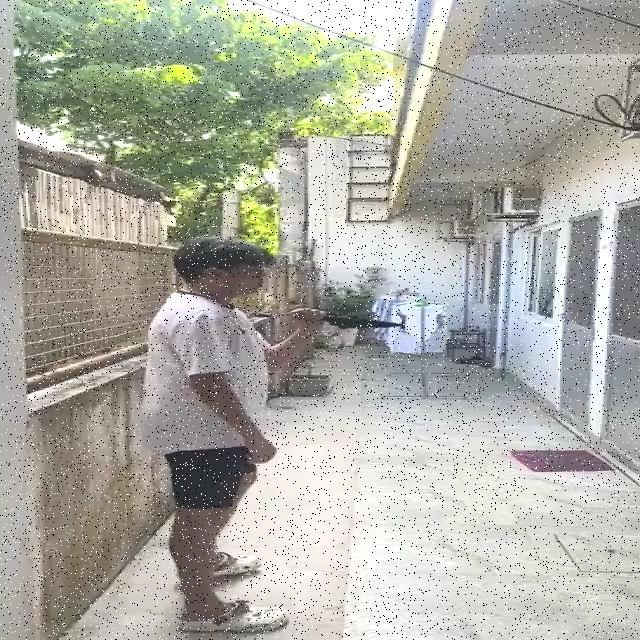knife: (291, 310, 398, 329)
non-violence: (141, 237, 407, 640)
